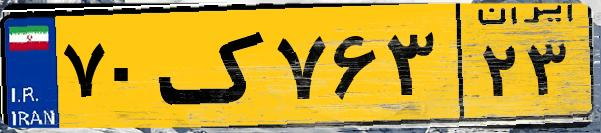0: (110, 28, 158, 98)
2: (475, 38, 525, 113)
3: (385, 28, 445, 110), (525, 38, 570, 115)
6: (330, 28, 385, 110)
7: (270, 28, 330, 110), (57, 26, 110, 100)
ک: (158, 12, 270, 120)
